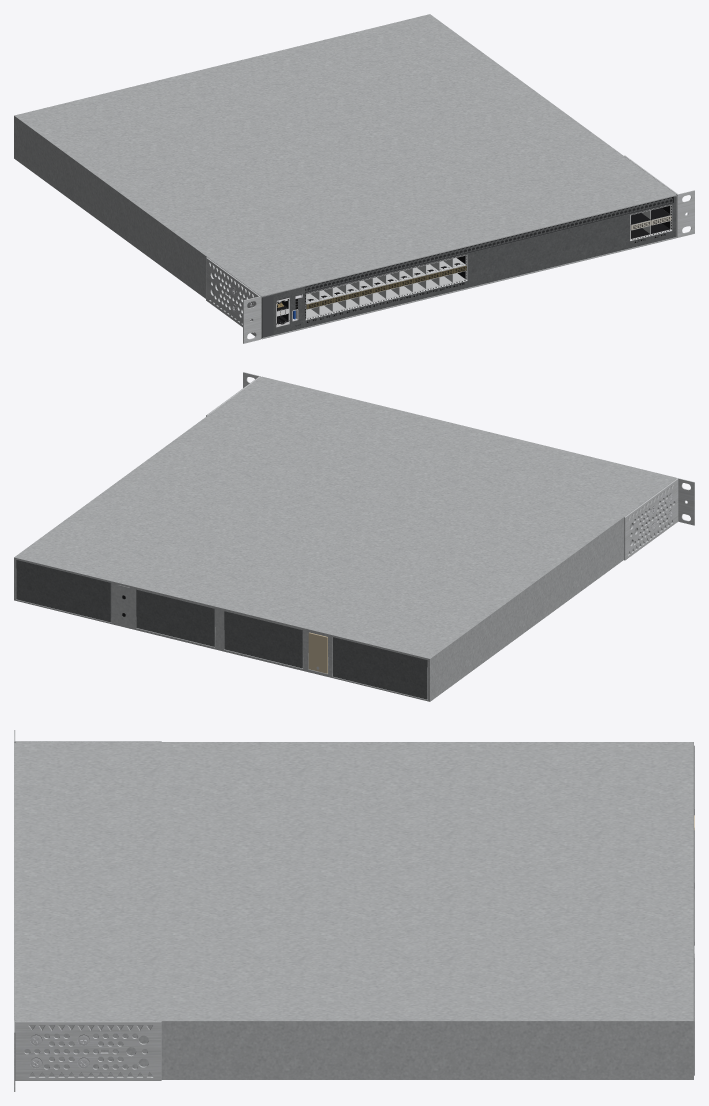
3 renders of one model, top to bottom at view 1: azimuth 30°, elevation 25°; view 2: azimuth 150°, elevation 25°; view 3: azimuth 270°, elevation 25°, orthographic. The views are drawn at different scales.
Visible parts, largest first — view 1: Shell, Port_Cages, Bank2_Filler, Rack_Ears, Vent_Top, Front_Lip, Front_Details; view 2: Shell, empty:PS-1, empty:PS-0, Rack_Ears, empty:FAN 0, empty:FAN 1, SSD_Module, Front_Lip; view 3: Shell, Rack_Ears, Front_Lip.
Part boxes in pixels (x1,y1,x2,y2): Shell: [14, 14, 676, 337]; Port_Cages: [305, 204, 672, 320]; Bank2_Filler: [466, 214, 629, 280]; Rack_Ears: [206, 155, 694, 343]; Vent_Top: [305, 197, 672, 291]; Front_Lip: [261, 195, 677, 339]; Front_Details: [262, 233, 665, 337]; Shell: [14, 377, 676, 701]; empty:PS-1: [16, 559, 111, 622]; empty:PS-0: [333, 637, 427, 699]; Rack_Ears: [206, 372, 694, 560]; empty:FAN 0: [224, 611, 302, 668]; empty:FAN 1: [136, 589, 214, 646]; SSD_Module: [308, 632, 327, 673]; Front_Lip: [262, 376, 676, 478]; Shell: [15, 742, 693, 1079]; Rack_Ears: [14, 730, 161, 1091]; Front_Lip: [14, 742, 16, 1020].
Size of the model in its own units: 0.4826 by 0.044 by 0.4587.
Materials: 26 (6 with a texture image).
